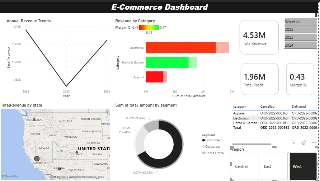

What the dashboard file says about the page in this screenshot:
{"tool":"powerbi","page":{"name":"dashboard","canvas":[1280,720],"ordinal":0},"visuals":[{"type":"lineChart","title":"Annual Revenue Trends","fields":{"Category":["orders.order_date.Variation.Date Hierarchy.Year"],"Y":["order_items.TotalRevenue"]},"box":[23,66.2,424.8,325.4],"z":0},{"type":"map","fields":{"Category":["customers.state"],"Size":["order_items.TotalRevenue"]},"box":[0,404.6,447.8,315.4],"z":1000},{"type":"clusteredBarChart","title":"Revenue by Category","fields":{"Category":["products.category","products.sub_category"],"Y":["Sum(order_items.total_amount)"]},"box":[459.4,66.2,486.7,325.4],"z":2000},{"type":"donutChart","fields":{"Category":["customers.segment"],"Y":["Sum(order_items.total_amount)"]},"box":[459.4,404.6,455,315.4],"z":3000},{"type":"pivotTable","fields":{"Rows":["products.category"],"Columns":["orders.order_status"],"Values":["Min(orders.order_id)"]},"box":[927.4,404.6,352.8,177.1],"z":4000},{"type":"actionButton","box":[0,0,100,40],"z":5000},{"type":"listSlicer","fields":{"Values":["orders.order_date.Variation.Date Hierarchy.Year"]},"box":[1137.6,40.3,142.6,172.8],"z":5001},{"type":"advancedSlicerVisual","fields":{"Values":["customers.region"]},"box":[927.4,581.8,352.8,138.2],"z":5002},{"type":"textbox","title":"E-Commerce Dashboard","box":[0,0,1280.2,66.2],"z":5003},{"type":"cardVisual","fields":{"Data":["order_items.TotalRevenue"]},"box":[946.1,56.2,191.5,172.8],"z":5004},{"type":"cardVisual","fields":{"Data":["order_items.Total Profit"]},"box":[950.4,229,187.2,162.7],"z":5005},{"type":"cardVisual","fields":{"Data":["order_items.Margin %"]},"box":[1133.3,229,146.9,162.7],"z":5006}]}

Visuals, with their boxes in screenshot pixels (x1, y1, x2, y2), scaled from the page's 1280x720 canvas onto the 320x181 screenshot:
"Annual Revenue Trends" lineChart: 6/17/112/98
map - customers.state x order_items.TotalRevenue: 0/102/112/180
"Revenue by Category" clusteredBarChart: 115/17/237/98
donutChart - customers.segment x Sum(order_items.total_amount): 115/102/229/180
pivotTable - products.category x orders.order_status: 232/102/319/146
actionButton: 0/0/25/10
listSlicer - orders.order_date.Variation.Date Hierarchy.Year: 284/10/319/54
advancedSlicerVisual - customers.region: 232/146/319/180
"E-Commerce Dashboard" textbox: 0/0/319/17
cardVisual - order_items.TotalRevenue: 237/14/284/58
cardVisual - order_items.Total Profit: 238/58/284/98
cardVisual - order_items.Margin %: 283/58/319/98
